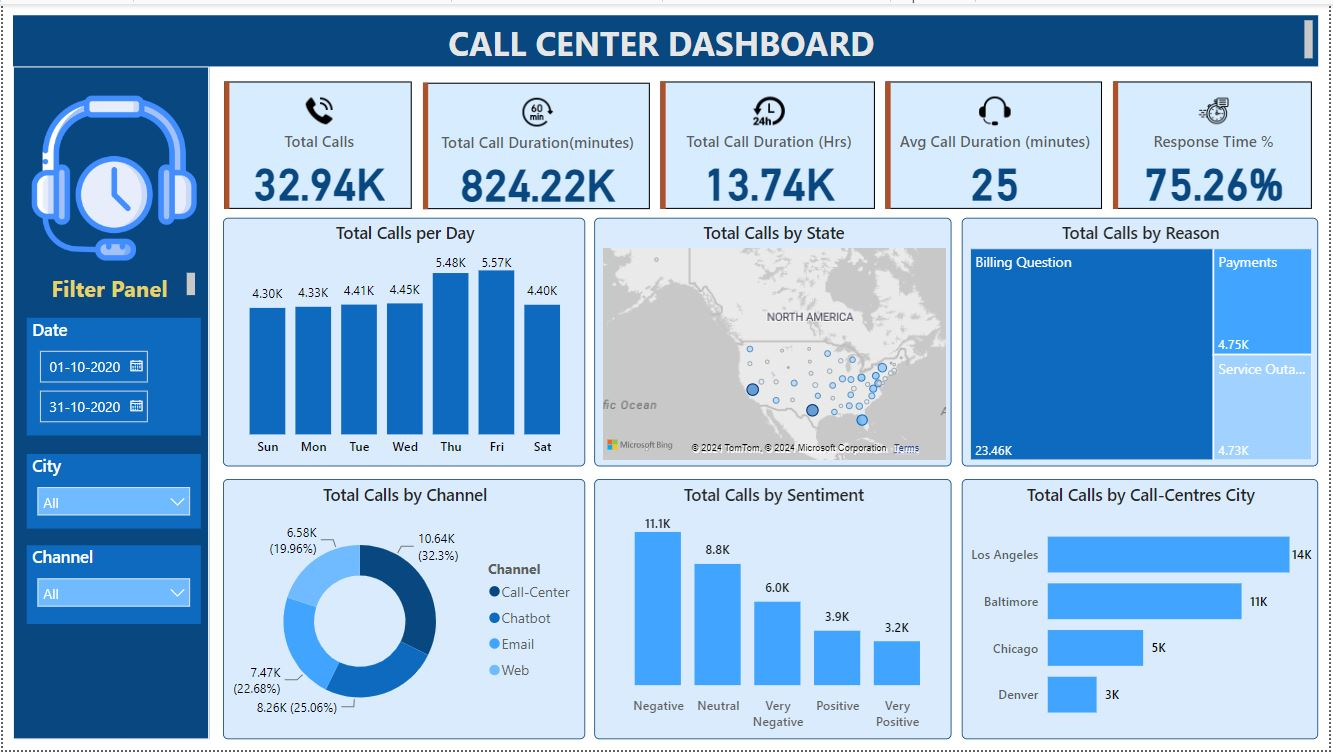

The page's visual inventory and layout, read from the dashboard file:
{"tool":"powerbi","page":{"name":"Page 1","canvas":[1280,720],"ordinal":0},"visuals":[{"type":"shape","box":[9.6,11,1259.7,49.4],"z":0},{"type":"shape","box":[9.7,60.3,189.4,649.1],"z":1},{"type":"cardVisual","fields":{"Data":["Call Center_Call Center.Total Calls"]},"box":[208.7,70,191.8,133.9],"z":2},{"type":"cardVisual","fields":{"Data":["Call Center_Call Center.Total Call Duration(minutes)"]},"box":[400.5,71.2,229.2,132.7],"z":3},{"type":"cardVisual","fields":{"Data":["Call Center_Call Center.Total Call Duration (Hrs)"]},"box":[629.8,70,217.2,133.9],"z":4},{"type":"cardVisual","fields":{"Data":["Call Center_Call Center.Avg Call Duration (minutes)"]},"box":[846.9,70,219.6,133.9],"z":5},{"type":"cardVisual","fields":{"Data":["Call Center_Call Center.Response Time %"]},"box":[1066.5,70,202.7,133.9],"z":6},{"type":"textbox","box":[9.7,10.9,1259.5,49.5],"z":7},{"type":"columnChart","title":"Total Calls per Day","fields":{"Category":["DateTable.Day"],"Y":["CountNonNull(Call Center_Call Center.Id)"]},"box":[212.3,206.3,349.9,240.1],"z":8},{"type":"map","fields":{"Category":["Call Center_Call Center.State"],"Size":["Call Center_Call Center.Total Calls"]},"box":[570.6,206.3,345,240.1],"z":9},{"type":"treemap","fields":{"Group":["Call Center_Call Center.Reason"],"Values":["Call Center_Call Center.Total Calls"]},"box":[925.3,206.3,343.8,240.1],"z":10},{"type":"donutChart","fields":{"Category":["Call Center_Call Center.Channel"],"Y":["Call Center_Call Center.Total Calls"]},"box":[212.3,458.4,349.9,250.9],"z":11},{"type":"columnChart","fields":{"Category":["Call Center_Call Center.Sentiment"],"Y":["Call Center_Call Center.Total Calls"]},"box":[570.6,458.4,345,250.9],"z":12},{"type":"barChart","fields":{"Category":["Call Center_Call Center.Call-Centres City"],"Y":["Call Center_Call Center.Total Calls"]},"box":[925.3,458.4,343.8,250.9],"z":13},{"type":"slicer","title":"Date","fields":{"Values":["Call Center_Call Center.Call Timestamp"]},"box":[22.9,302.8,167.7,113.4],"z":14},{"type":"slicer","title":"City","fields":{"Values":["Call Center_Call Center.City"]},"box":[22.9,434.3,167.7,72.4],"z":15},{"type":"slicer","title":"Channel","fields":{"Values":["Call Center_Call Center.Channel"]},"box":[22.9,522.4,167.7,76],"z":16},{"type":"textbox","box":[22.9,254.6,167.7,35],"z":17},{"type":"image","box":[22.9,82,168.9,172.5],"z":18}]}

Visuals, with their boxes in screenshot pixels (x1, y1, x2, y2), scaled from the page's 1280x720 canvas onto the 1333x754 screenshot:
shape: (10, 12, 1322, 63)
shape: (10, 63, 207, 743)
cardVisual - Call Center_Call Center.Total Calls: (217, 73, 417, 214)
cardVisual - Call Center_Call Center.Total Call Duration(minutes): (417, 75, 656, 214)
cardVisual - Call Center_Call Center.Total Call Duration (Hrs): (656, 73, 882, 214)
cardVisual - Call Center_Call Center.Avg Call Duration (minutes): (882, 73, 1111, 214)
cardVisual - Call Center_Call Center.Response Time %: (1111, 73, 1322, 214)
textbox: (10, 11, 1322, 63)
"Total Calls per Day" columnChart: (221, 216, 585, 467)
map - Call Center_Call Center.State x Call Center_Call Center.Total Calls: (594, 216, 954, 467)
treemap - Call Center_Call Center.Reason x Call Center_Call Center.Total Calls: (964, 216, 1322, 467)
donutChart - Call Center_Call Center.Channel x Call Center_Call Center.Total Calls: (221, 480, 585, 743)
columnChart - Call Center_Call Center.Sentiment x Call Center_Call Center.Total Calls: (594, 480, 954, 743)
barChart - Call Center_Call Center.Call-Centres City x Call Center_Call Center.Total Calls: (964, 480, 1322, 743)
"Date" slicer: (24, 317, 198, 436)
"City" slicer: (24, 455, 198, 531)
"Channel" slicer: (24, 547, 198, 627)
textbox: (24, 267, 198, 303)
image: (24, 86, 200, 267)
